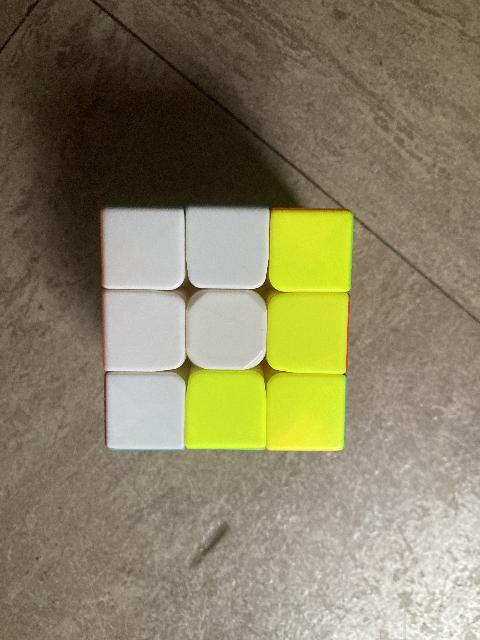White: (102, 212, 182, 286), (106, 294, 182, 370), (106, 374, 184, 448), (189, 212, 265, 286), (192, 296, 262, 368)
Yellow: (190, 374, 264, 452), (271, 294, 345, 370), (275, 215, 349, 288), (271, 373, 343, 447)
